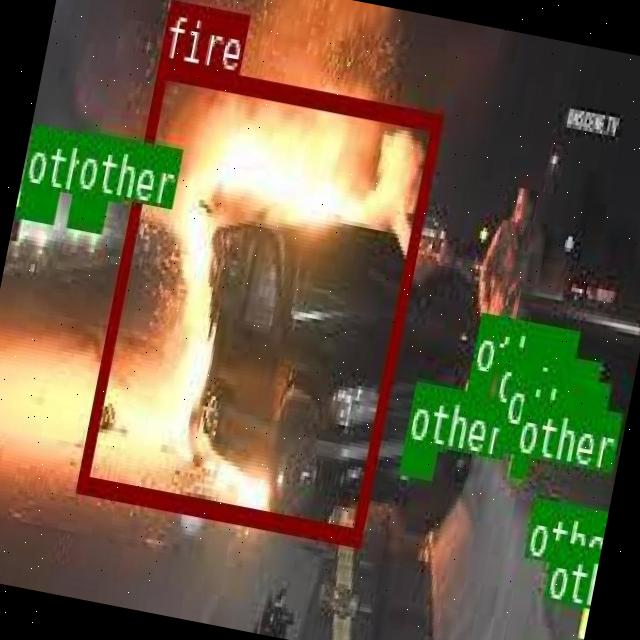fire: (76, 58, 442, 542)
